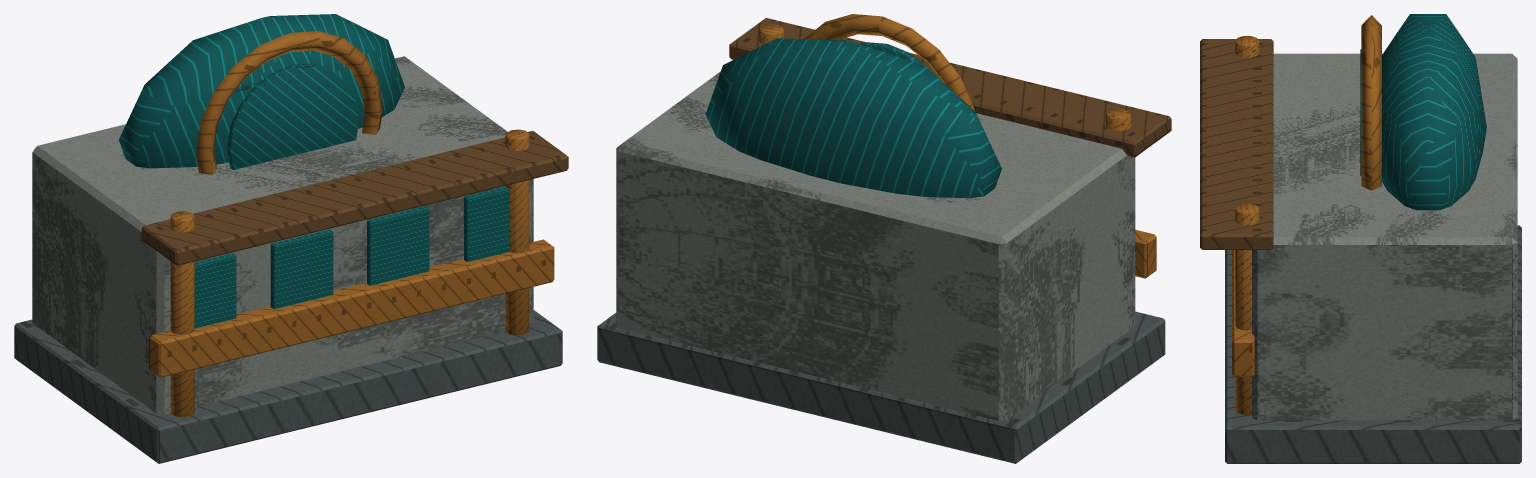
File: orbital-canteen.glb
3 views of the same model, side by side, from view 1: azimuth 30°, elevation 25°; view 2: azimuth 150°, elevation 25°; view 3: azimuth 270°, elevation 25° (orthographic). The views are drawn at different scales.
Parts seen in each view (by area): view 1: orbital-canteen; view 2: orbital-canteen; view 3: orbital-canteen.
Part boxes in pixels (x1,y1,x2,y2): orbital-canteen: (14, 14, 568, 463); orbital-canteen: (597, 14, 1171, 463); orbital-canteen: (1200, 14, 1521, 463).
Bounding box in the file's own units: 4.9 × 3.81 × 3.28.
1 material, 1 textured.
